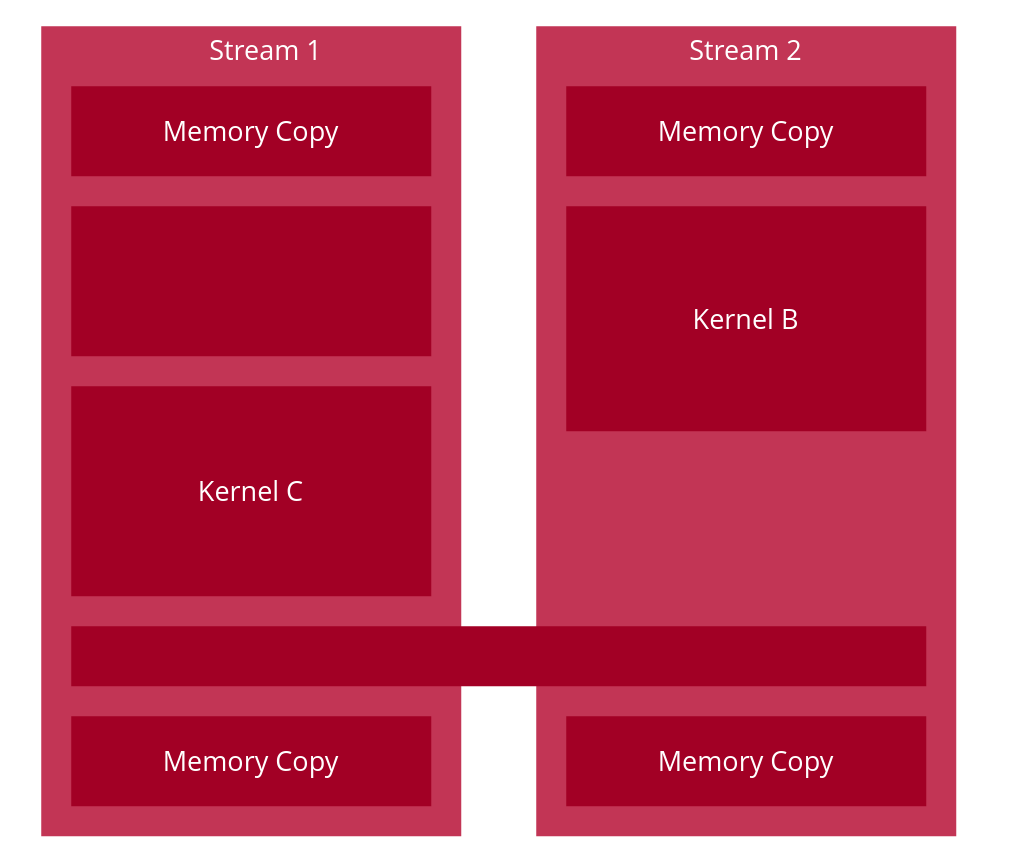
The diagram is 1011 pixels wide and 861 high, and some of its shapes have lost their labels. Each missing label, with the box of its shape:
hipDeviceSynchronize: (70, 626, 926, 686)
Kernel A: (70, 206, 430, 356)
